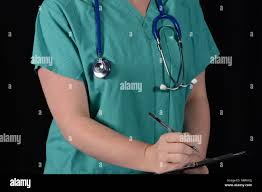Coat: (32, 1, 215, 171)
Stethoscope: (72, 1, 207, 86)
